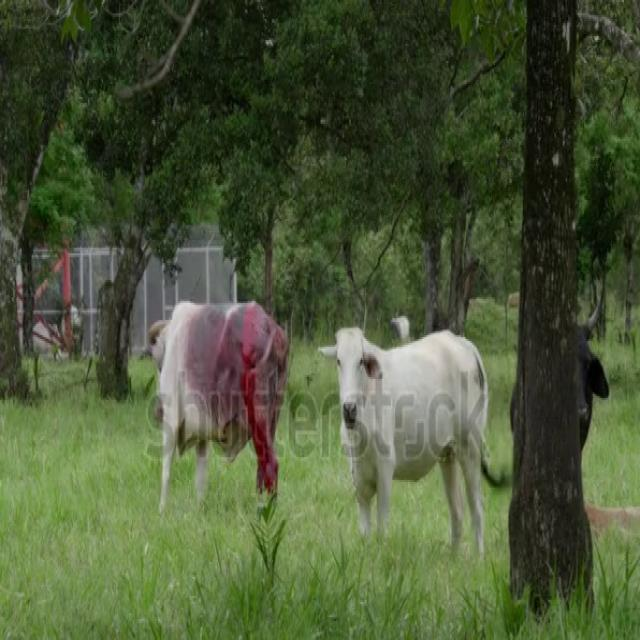injured-animals: (139, 295, 292, 520)
normal_animals: (316, 318, 504, 562)
